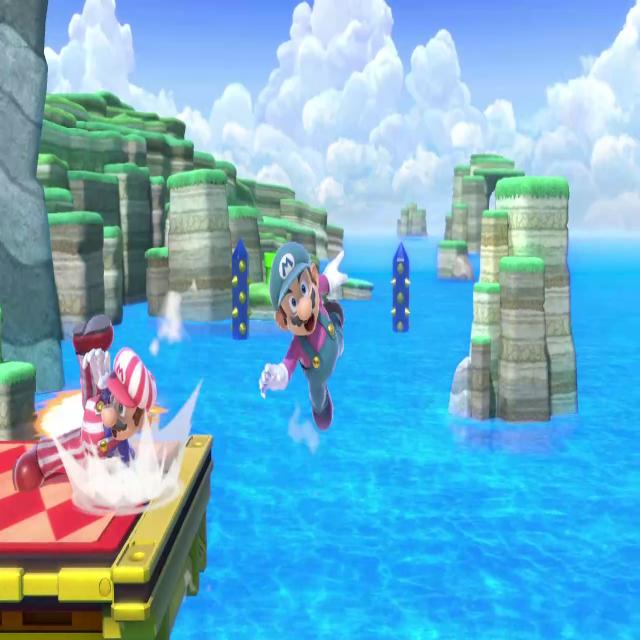Mario: (255, 230, 355, 436)
Mario-DS: (14, 317, 169, 505)
